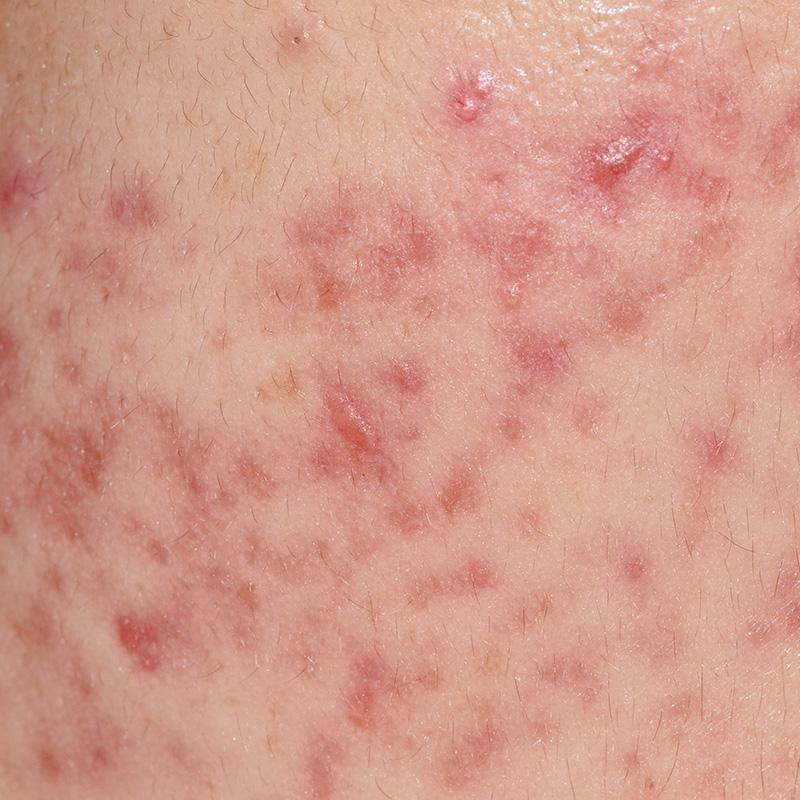acne_scars: (30, 400, 138, 553), (154, 402, 236, 513), (114, 593, 183, 693), (341, 675, 400, 744)
blackhead: (261, 20, 350, 91)
keloid: (300, 364, 394, 493)
sebo-crystan-conglo: (575, 118, 713, 202), (436, 64, 510, 134)
